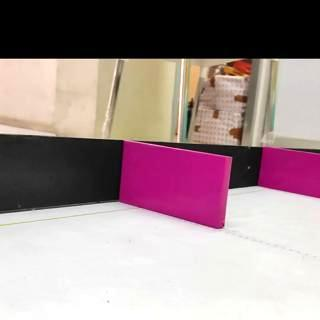xparking: (120, 141, 230, 229), (258, 146, 320, 200)
